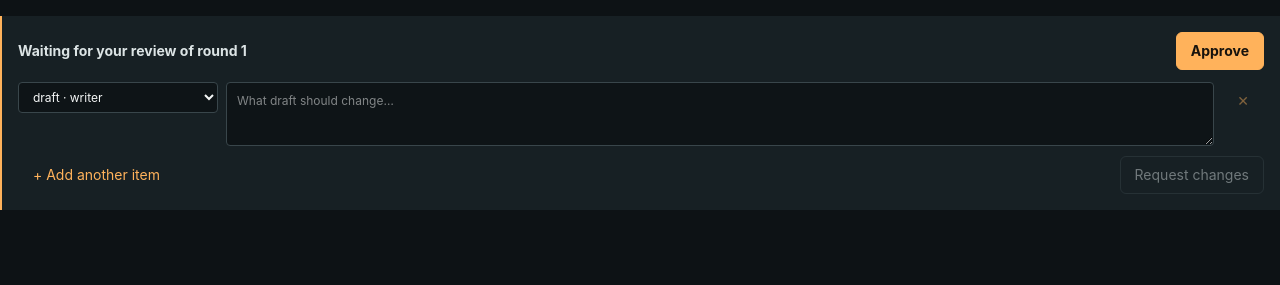
Test case: ReviewBar › shows Go's reason when it refuses what was sent, and keeps the text
Type "Shorter intro." into the text box named "Item 1" at (720, 114), box left=226, top=82, right=1214, bottom=146
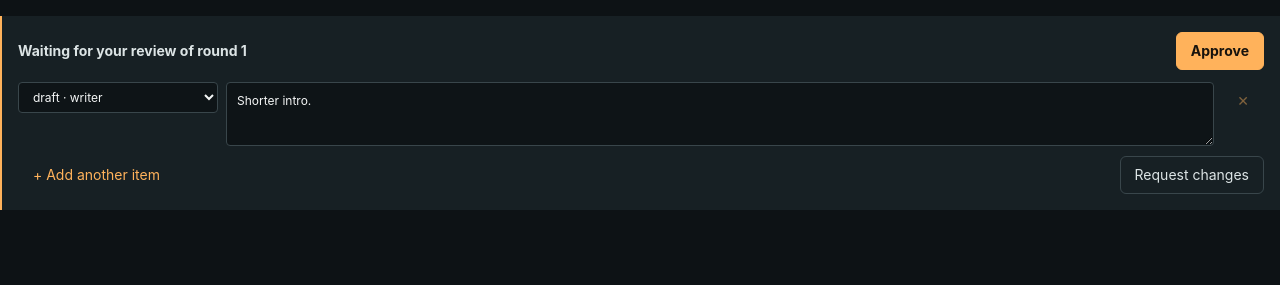
Click the button "Request changes" at (1192, 175), box left=1120, top=156, right=1264, bottom=194
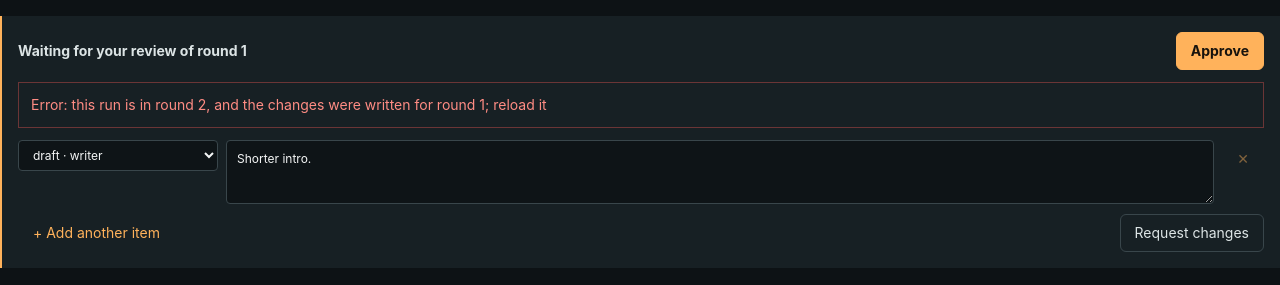
Expected: the text "the changes were written for round 1" is shown, left=31, top=96, right=547, bottom=113
